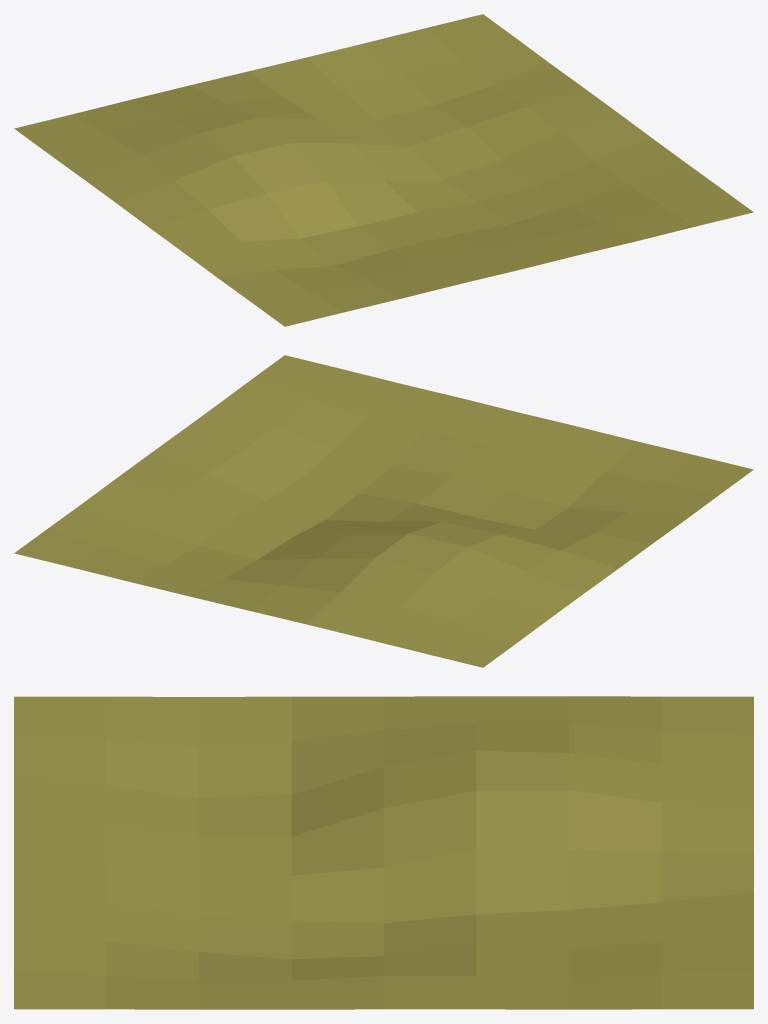
Rendered from Terrain_18_Yellow.fbx.
3 views of the same model, one above another, from view 1: azimuth 30°, elevation 25°; view 2: azimuth 150°, elevation 25°; view 3: azimuth 270°, elevation 25° (orthographic). The views are drawn at different scales.
Parts seen in each view (by area): view 1: Terrain_18_Yellow; view 2: Terrain_18_Yellow; view 3: Terrain_18_Yellow.
Boxes of the visible parts, left/top/right/bottom form: Terrain_18_Yellow: left=14, top=14, right=753, bottom=326; Terrain_18_Yellow: left=14, top=355, right=753, bottom=667; Terrain_18_Yellow: left=14, top=696, right=753, bottom=1009.
Bounding box in the file's own units: 7000 × 580 × 7000.
